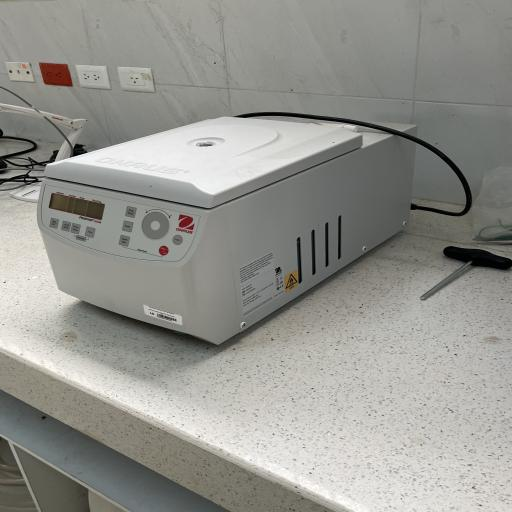Centrifuga_Ohaus_Frontier: (26, 104, 450, 351)
